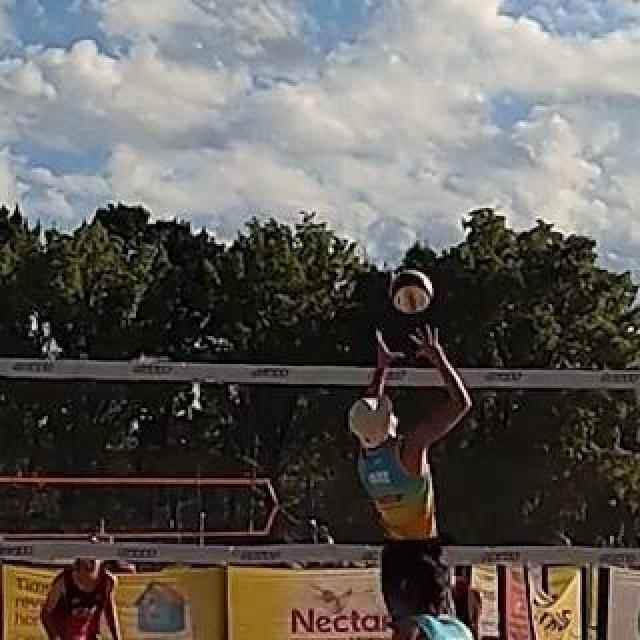volleyball: (388, 269, 432, 313)
